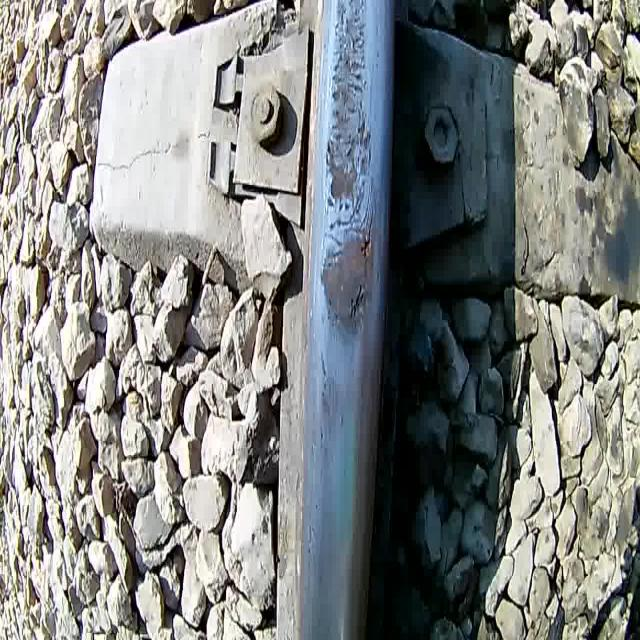Cracks: (356, 193, 378, 265), (347, 276, 369, 330)
Squats: (316, 0, 382, 356), (316, 368, 344, 448)
